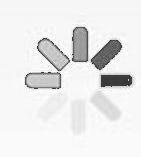ProgressBar: (1, 1, 140, 156)
